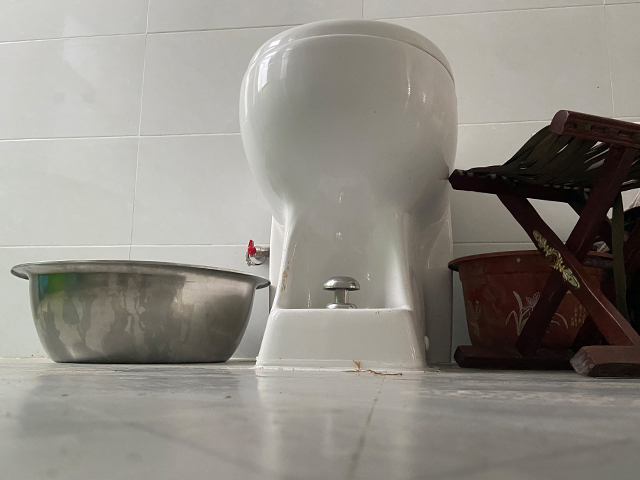closestool: (237, 16, 460, 374)
stool: (448, 109, 640, 379)
